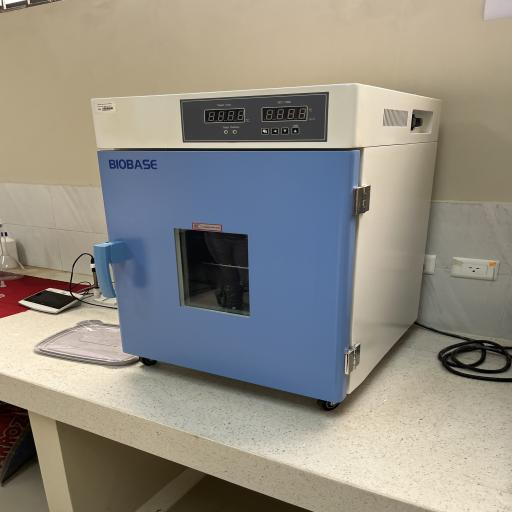Horno_Secado_Biobase: (75, 75, 452, 419)
